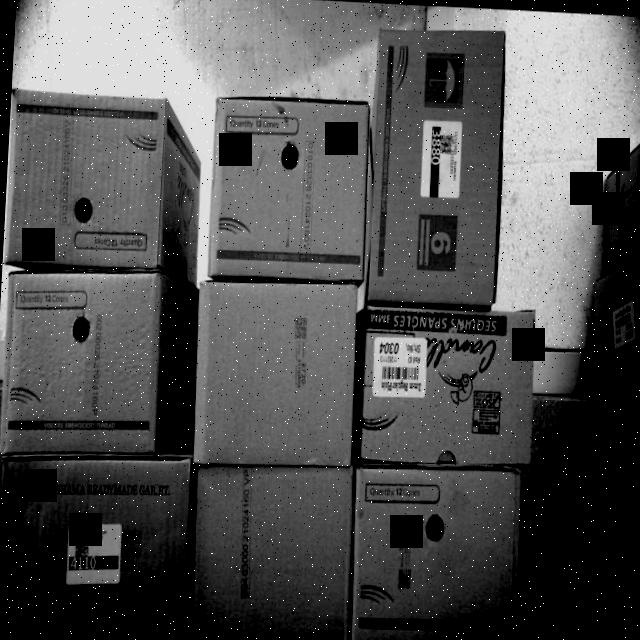box: (371, 29, 508, 301), (0, 459, 194, 632), (183, 281, 363, 465), (208, 96, 374, 287), (2, 83, 166, 270), (186, 462, 356, 640), (6, 270, 166, 455), (362, 302, 540, 468), (351, 474, 523, 640)
